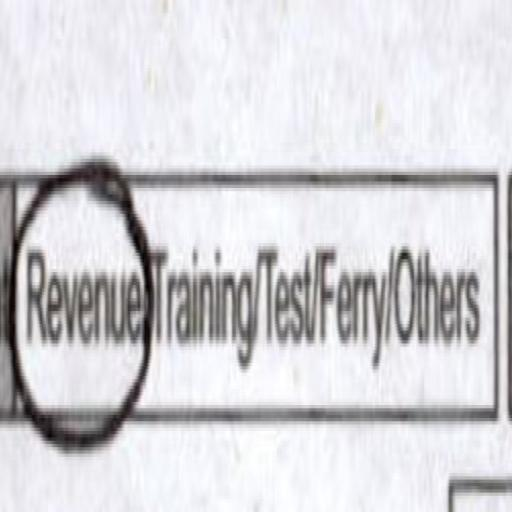check: (18, 139, 153, 510)
